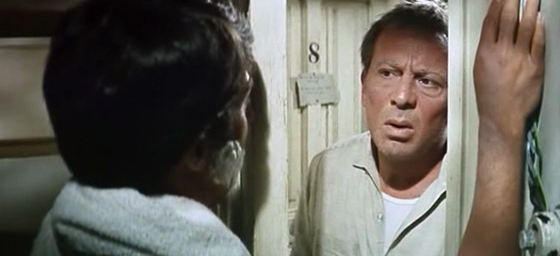face: (368, 37, 450, 162)
mcu: (1, 1, 560, 256)
ots: (29, 1, 258, 256)
person: (286, 1, 450, 256)
